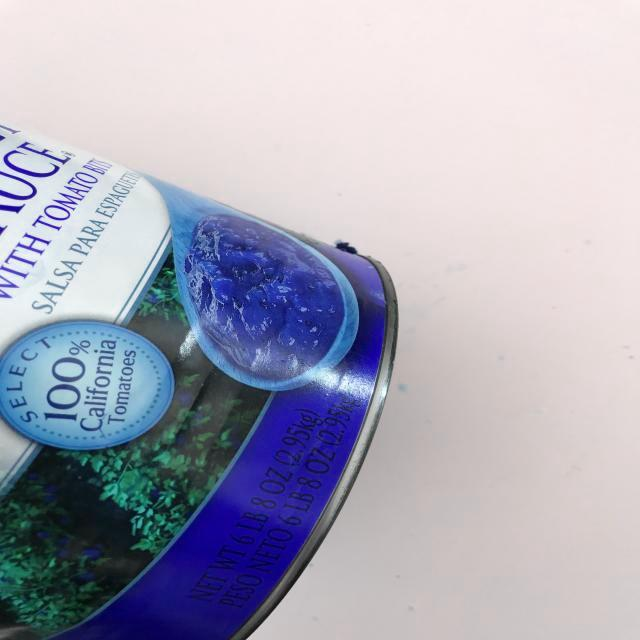metal: (3, 100, 463, 640)
